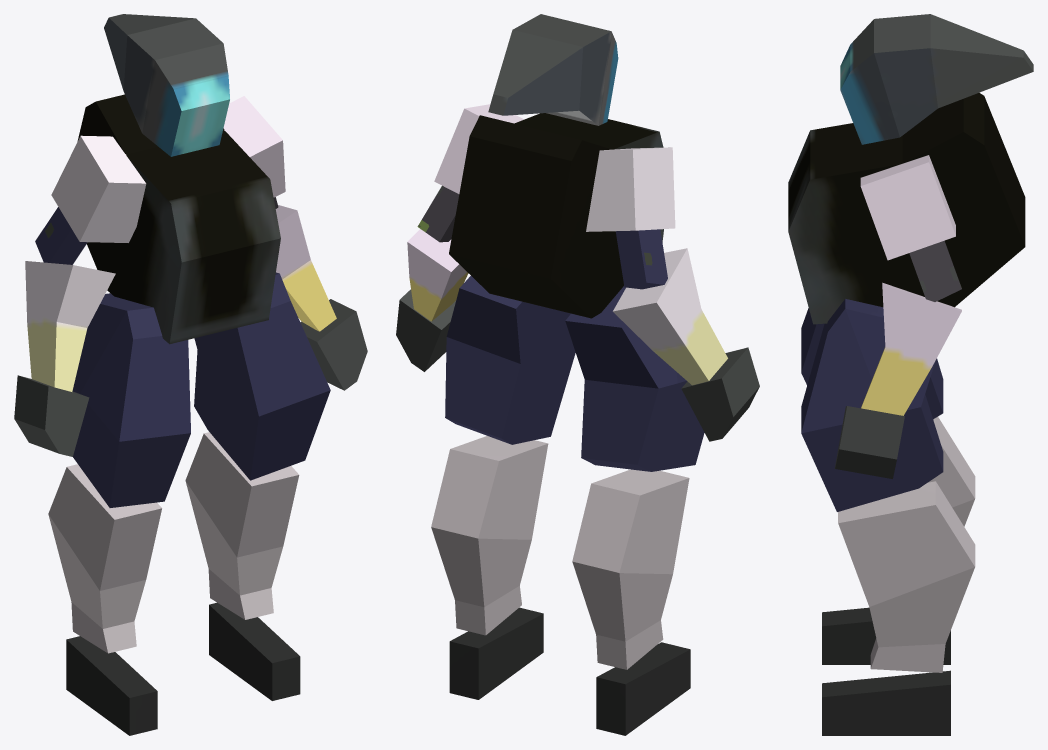
Rendered from FracturedPlayer.fbx.
3 views of the same model, side by side, from view 1: azimuth 30°, elevation 25°; view 2: azimuth 150°, elevation 25°; view 3: azimuth 270°, elevation 25° (orthographic). The views are drawn at different scales.
Visible parts, largest first — view 1: Cube.007, Cube.018, Cube.019, Cube.017, Cube.020, Cube.021, Cube.014, Cube.010, Cube.022, Cube.002, Cube.013, Cube.011 (+3 smaller); view 2: Cube.007, Cube.020, Cube.019, Cube.021, Cube.018, Cube.017, Cube.014, Cube.010, Cube.022, Cube.002, Cube.013, Cube.011 (+4 smaller); view 3: Cube.007, Cube.021, Cube.017, Cube.019, Cube.002, Cube.011, Cube.009, Cube.012, Cube.022, Cube.020, Cube.016, Cube.018.
Boxes of the visible parts, x1,y1,x2,y2 form: Cube.007: (77, 94, 280, 344); Cube.018: (72, 293, 190, 507); Cube.019: (194, 272, 330, 480); Cube.017: (104, 14, 229, 156); Cube.020: (48, 464, 161, 653); Cube.021: (185, 432, 299, 619); Cube.014: (25, 261, 115, 391); Cube.010: (51, 135, 146, 242); Cube.022: (66, 636, 157, 735); Cube.002: (209, 602, 300, 700); Cube.013: (14, 375, 89, 456); Cube.011: (275, 205, 336, 331); Cube.007: (449, 113, 663, 318); Cube.020: (572, 469, 689, 669); Cube.019: (445, 276, 575, 444); Cube.021: (431, 436, 548, 635); Cube.018: (565, 286, 704, 471); Cube.017: (488, 14, 618, 125); Cube.014: (613, 248, 727, 385); Cube.010: (586, 147, 675, 231); Cube.022: (596, 642, 690, 735); Cube.002: (449, 607, 543, 699); Cube.013: (681, 347, 759, 441); Cube.011: (407, 229, 468, 321); Cube.007: (788, 92, 1025, 324); Cube.021: (838, 481, 975, 672); Cube.017: (840, 14, 1033, 144); Cube.019: (801, 299, 943, 511); Cube.002: (822, 670, 950, 735); Cube.011: (861, 282, 961, 415); Cube.009: (860, 155, 955, 260); Cube.012: (834, 406, 904, 478); Cube.022: (822, 607, 950, 664); Cube.020: (928, 416, 975, 526); Cube.016: (909, 240, 961, 301); Cube.018: (801, 308, 943, 419).
Bounding box in the file's own units: 219 × 414 × 139.
